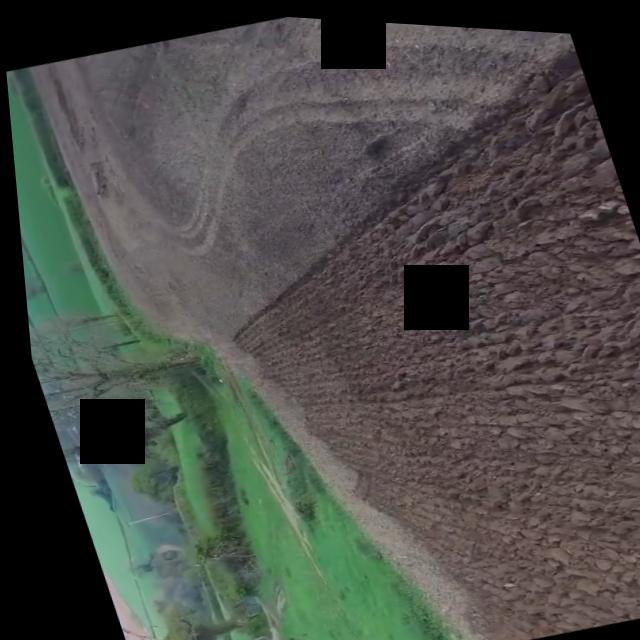Tree: (20, 280, 227, 459), (103, 580, 265, 640)
